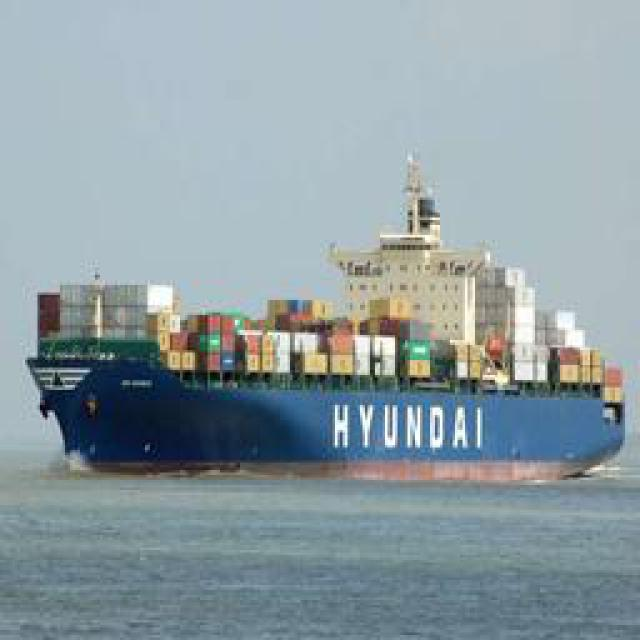Ship: (14, 146, 638, 491)
